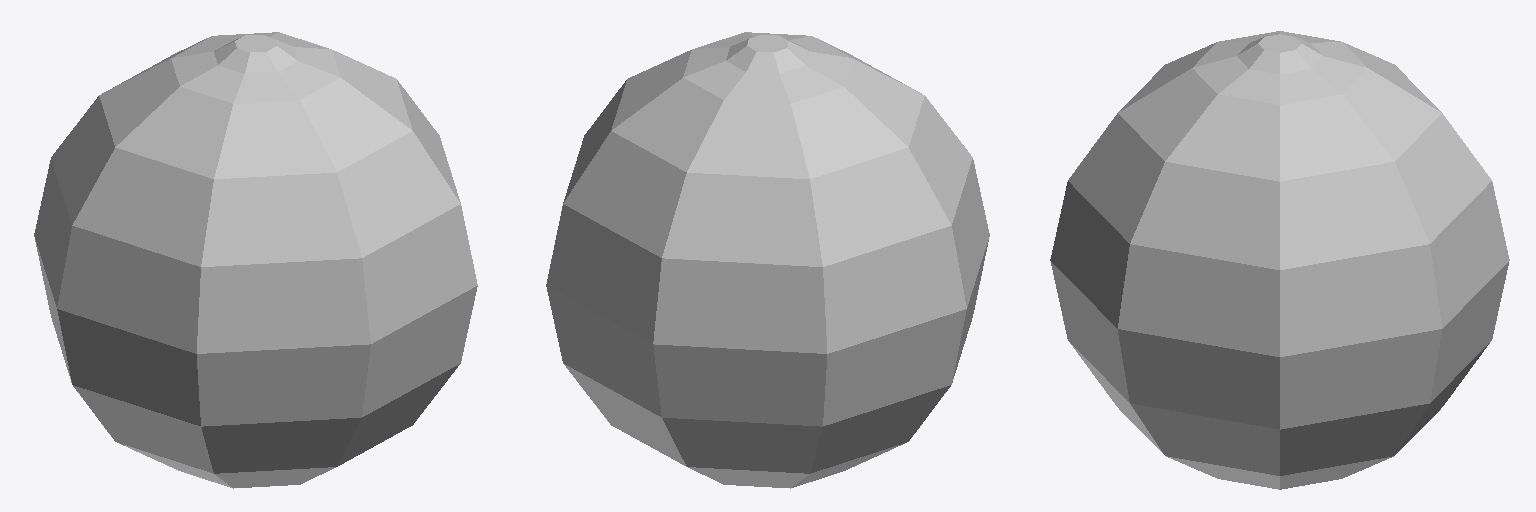
Rendered from Grapefruit.obj.
3 renders of one model, left to right at view 1: azimuth 30°, elevation 25°; view 2: azimuth 150°, elevation 25°; view 3: azimuth 270°, elevation 25°, orthographic.
Visible parts, largest first — view 1: pSphere6; view 2: pSphere6; view 3: pSphere6.
Boxes of the visible parts, <box> form: pSphere6: <box>34,32,477,488</box>; pSphere6: <box>546,32,989,488</box>; pSphere6: <box>1050,31,1509,489</box>.
Size of the model in its own units: 3.82 by 3.9 by 3.82.